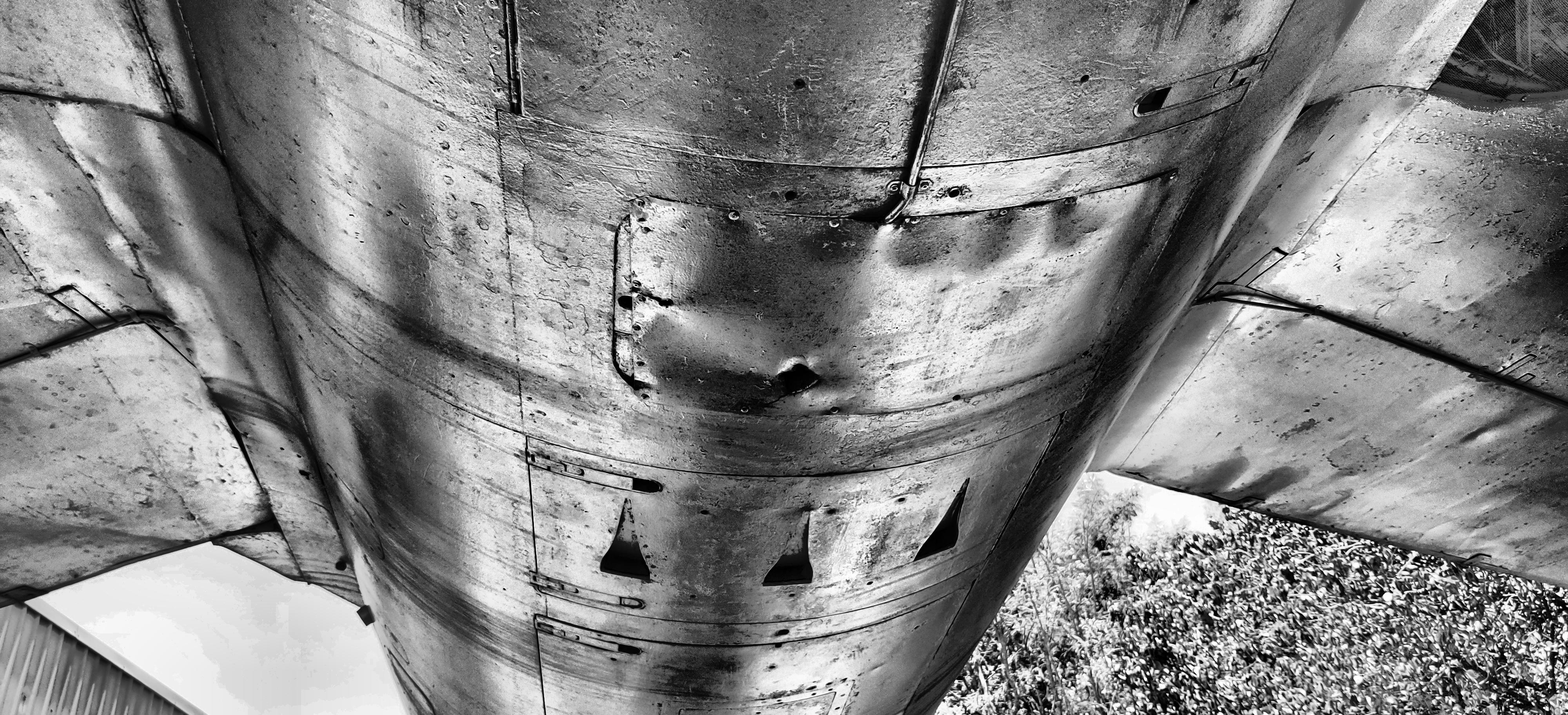crack: (780, 363, 821, 393), (764, 392, 790, 406), (649, 296, 673, 306), (1126, 472, 1149, 479)
dent: (960, 209, 1037, 272), (880, 216, 963, 273), (1042, 193, 1112, 258), (1192, 455, 1249, 495), (104, 527, 190, 545), (1306, 491, 1353, 523), (1262, 475, 1303, 503), (174, 325, 201, 363), (1129, 458, 1163, 476), (634, 376, 657, 390)
missing-head: (618, 295, 634, 309), (948, 188, 960, 199), (785, 190, 796, 200), (834, 706, 841, 711), (245, 431, 250, 437), (828, 687, 834, 692), (349, 523, 356, 527), (354, 498, 359, 503), (280, 447, 285, 452), (777, 698, 782, 703), (297, 455, 303, 459), (378, 547, 382, 552), (811, 692, 815, 697), (370, 547, 374, 551)
scratch: (911, 9, 1017, 70), (600, 129, 717, 142), (596, 167, 630, 199), (587, 162, 664, 175)
